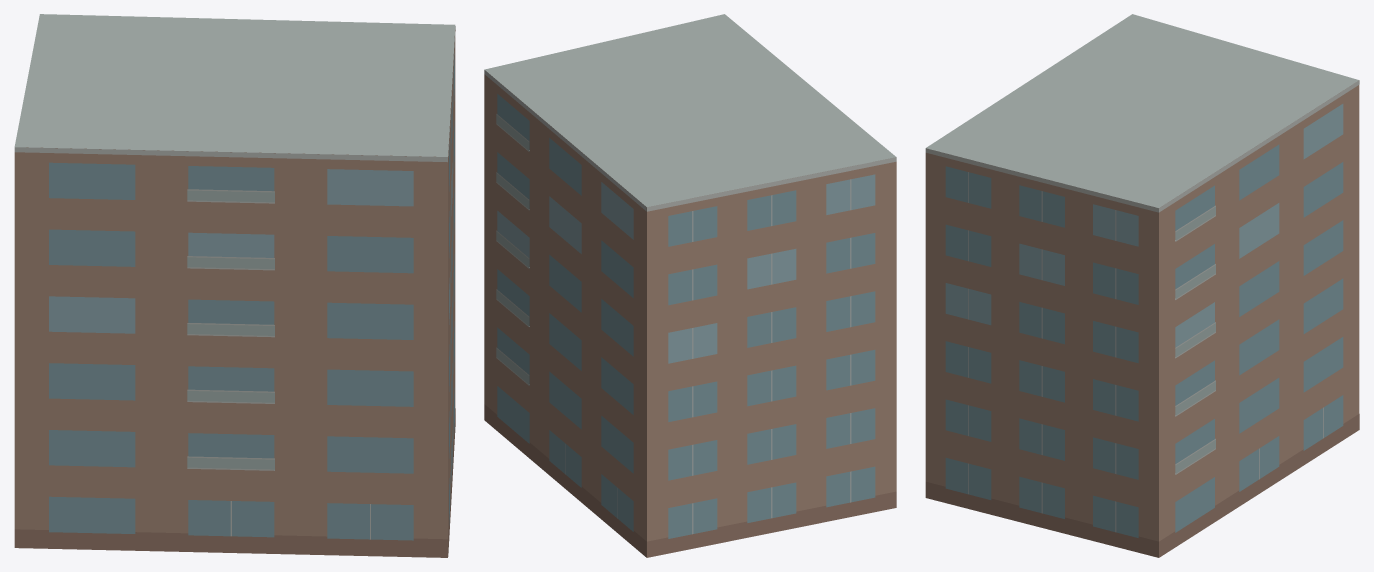
The model's file is survey-upis-32735980.glb.
3 renders of one model, left to right at view 1: azimuth 30°, elevation 25°; view 2: azimuth 150°, elevation 25°; view 3: azimuth 270°, elevation 25°, orthographic. The views are drawn at different scales.
Visible parts, largest first — view 1: survey-upis-32735980.tmp; view 2: survey-upis-32735980.tmp; view 3: survey-upis-32735980.tmp.
Boxes of the visible parts, x1,y1,x2,y2 form: survey-upis-32735980.tmp: [14, 14, 455, 557]; survey-upis-32735980.tmp: [484, 14, 896, 557]; survey-upis-32735980.tmp: [925, 14, 1359, 557].
Size of the model in its own units: 22.81 by 19.15 by 21.54.
